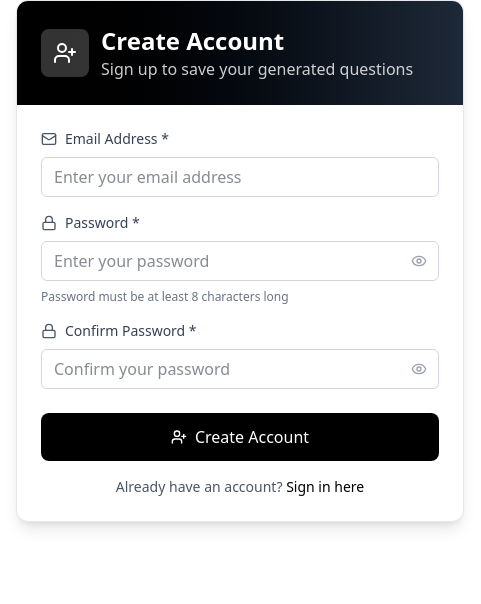
Test: SignUpForm › Form Validation › shows validation error for empty password
Type "test@example.com" into the field with test id "email-input" at (240, 177), box [41,157,439,197]
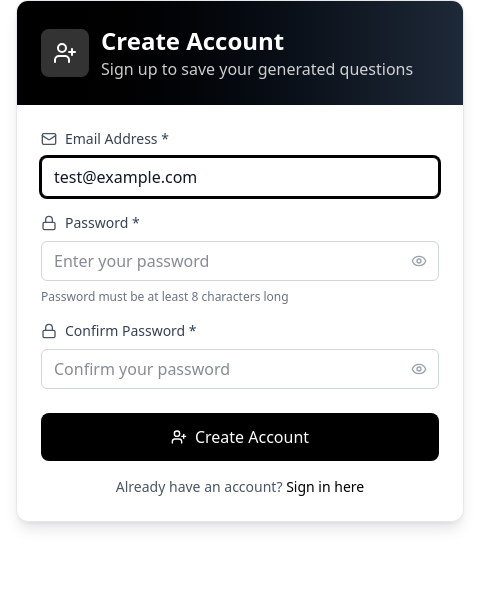
Click the button with test id "signup-button" at (240, 437), box [41,413,439,461]
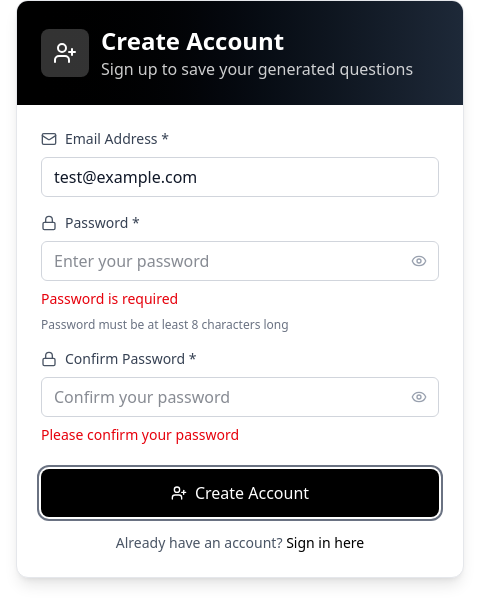
Expected: the text with test id "password-error" reads "Password is required", [41,289,178,308]
